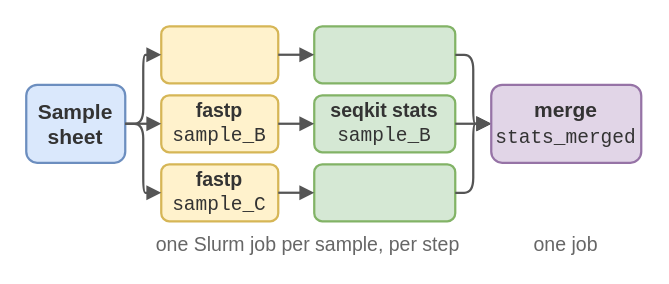
The diagram is 669 pixels wide and 284 high, and some of its shapes have lost their labels. The box of each missing label's shape, as (x1, y1, x2, y2) in pixels:
fastp sample_A: (159, 24, 279, 84)
seqkit stats sample_A: (312, 24, 456, 84)
seqkit stats sample_C: (312, 162, 456, 222)
